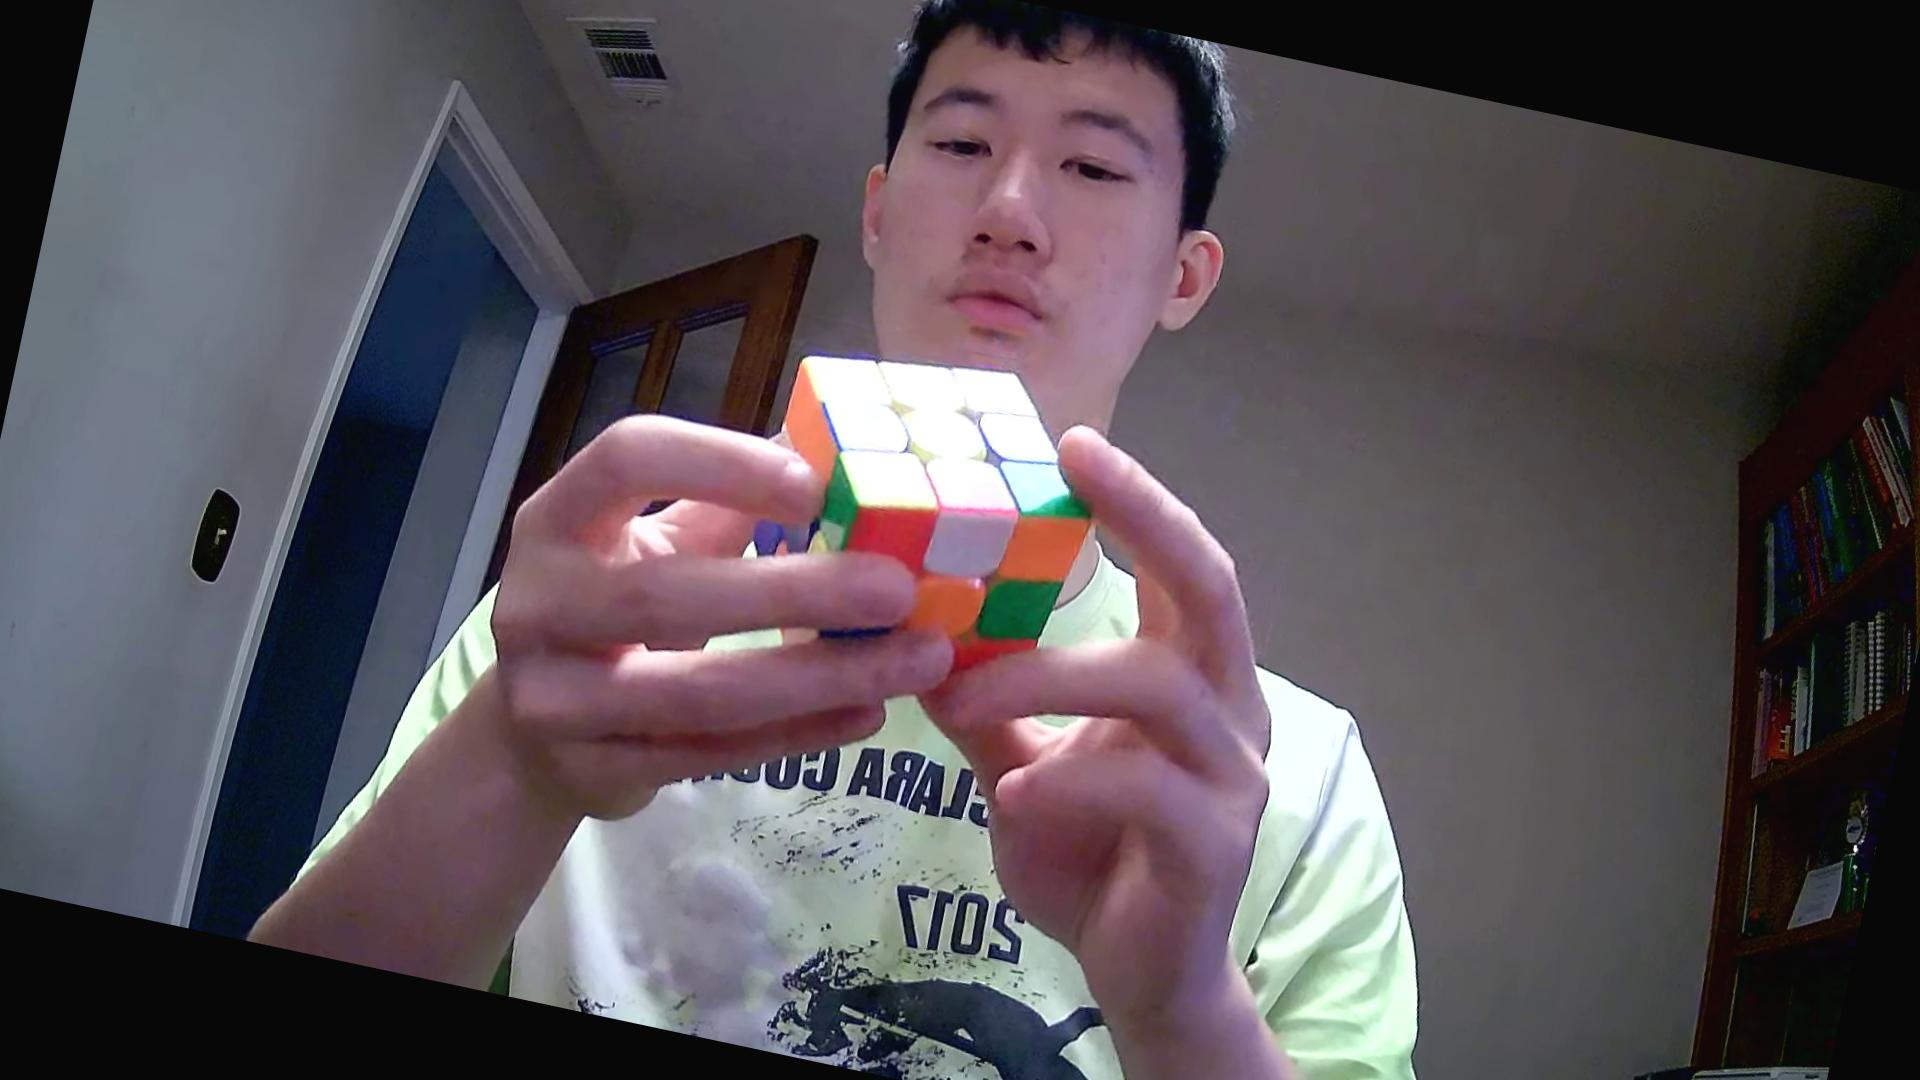Rubiks-Cube: (705, 313, 1134, 728)
